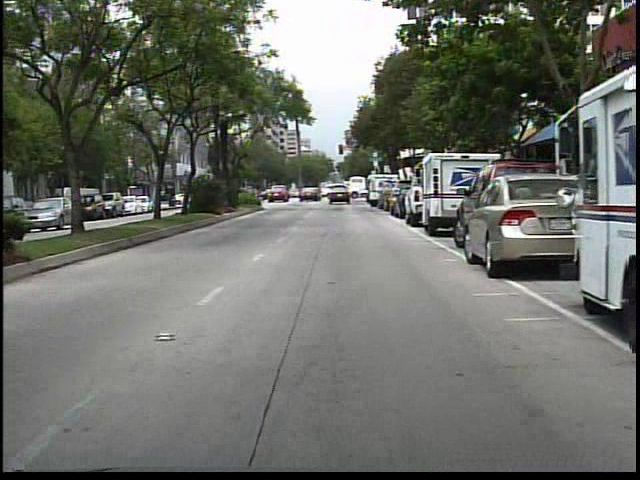person: (329, 183, 343, 203)
